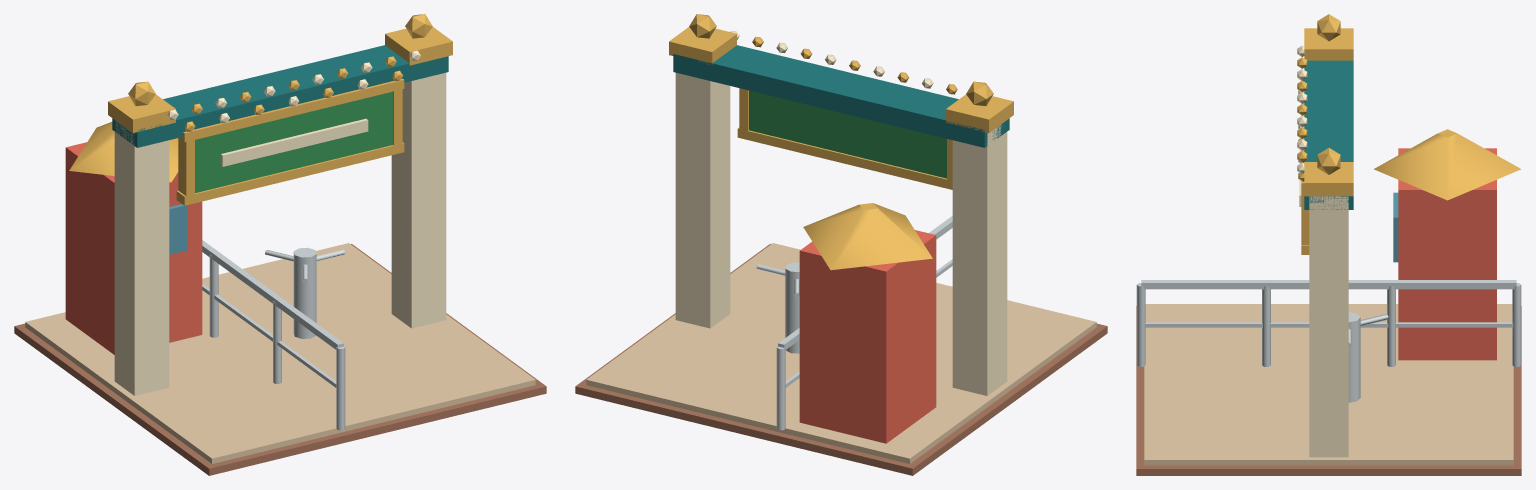
Rendered from ride_entrance.glb.
3 renders of one model, left to right at view 1: azimuth 30°, elevation 25°; view 2: azimuth 150°, elevation 25°; view 3: azimuth 270°, elevation 25°, orthographic.
Visible parts, largest first — view 1: ride_entrance; view 2: ride_entrance; view 3: ride_entrance.
Boxes of the visible parts, bbox=[...] form: ride_entrance: bbox=[14, 14, 546, 475]; ride_entrance: bbox=[575, 14, 1107, 475]; ride_entrance: bbox=[1136, 14, 1521, 475].
Bounding box in the file's own units: 3.9 × 3.47 × 3.9.
